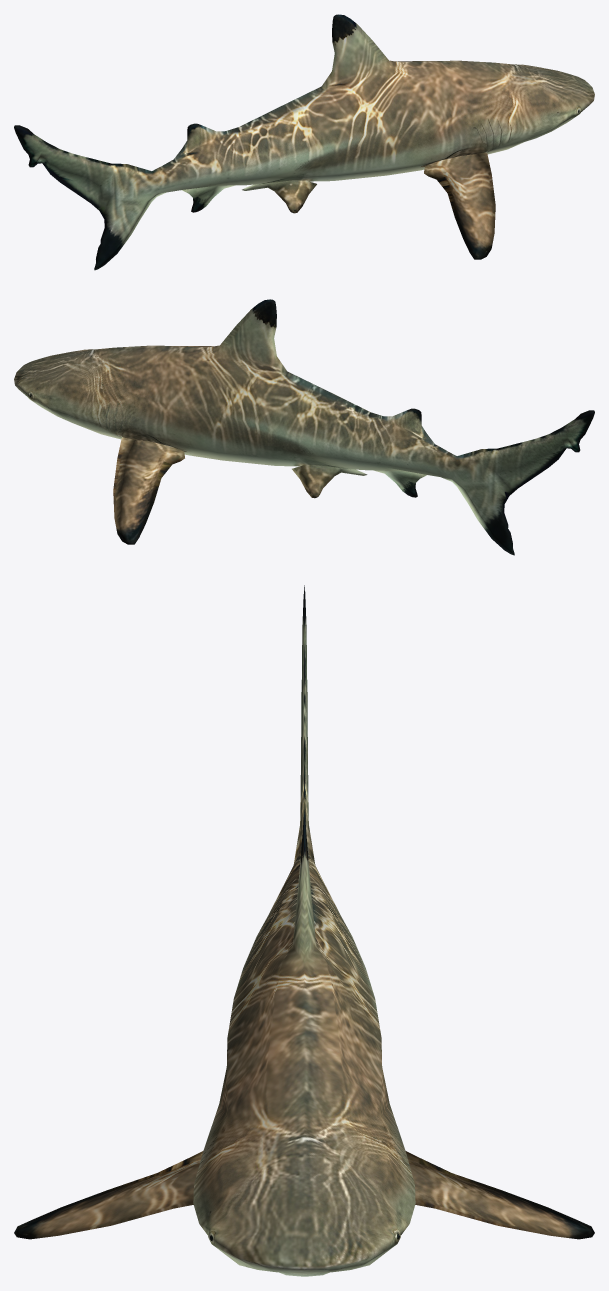
The model's file is blacktip.glb.
The picture shows the model from 3 angles, top to bottom: view 1: azimuth 30°, elevation 25°; view 2: azimuth 150°, elevation 25°; view 3: azimuth 270°, elevation 25°; orthographic projection. The views are drawn at different scales.
Visible parts, largest first — view 1: tiger shark 3d model; view 2: tiger shark 3d model; view 3: tiger shark 3d model.
Part boxes in pixels (x1,y1,x2,y2): tiger shark 3d model: (14, 14, 594, 270); tiger shark 3d model: (14, 299, 594, 555); tiger shark 3d model: (14, 585, 594, 1276).
Bounding box in the file's own units: 0.9995 × 0.3364 × 0.4839.
1 material, 1 textured.
